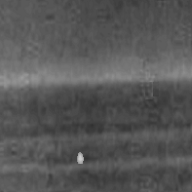Target: (75, 151, 85, 165)
